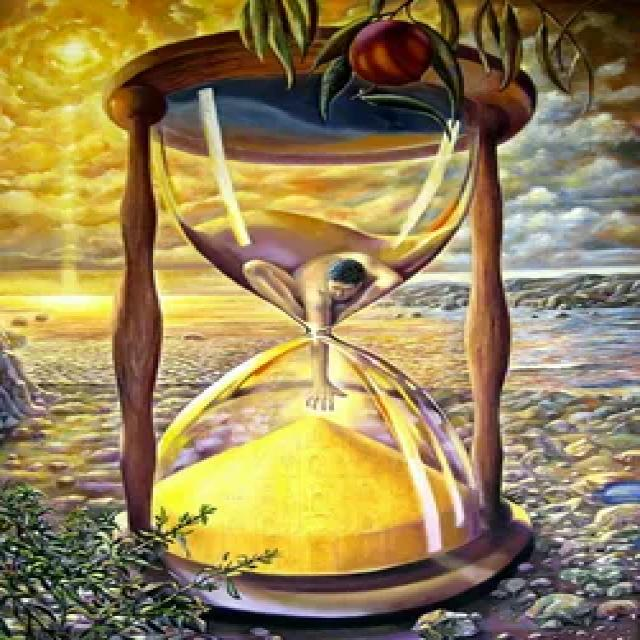clock: (95, 25, 545, 628)
